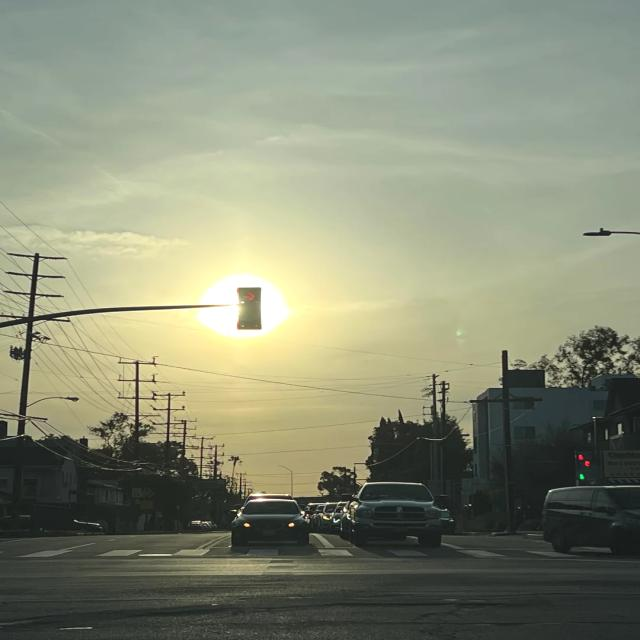Vehicle: (340, 480, 445, 547), (199, 500, 312, 554)
